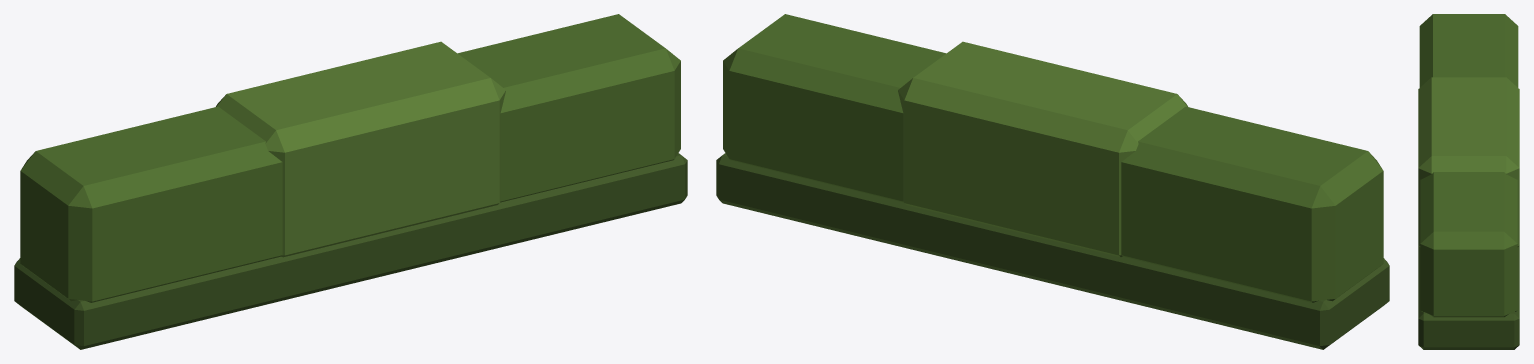
File: hedge.glb
3 views of the same model, side by side, from view 1: azimuth 30°, elevation 25°; view 2: azimuth 150°, elevation 25°; view 3: azimuth 270°, elevation 25° (orthographic). The views are drawn at different scales.
Visible parts, largest first — view 1: hedge; view 2: hedge; view 3: hedge.
Boxes of the visible parts, x1=… form: hedge: x1=14, y1=14, x2=687, y2=349; hedge: x1=716, y1=14, x2=1389, y2=349; hedge: x1=1418, y1=14, x2=1519, y2=349.
Bounding box in the file's own units: 4 × 1.04 × 0.76.
